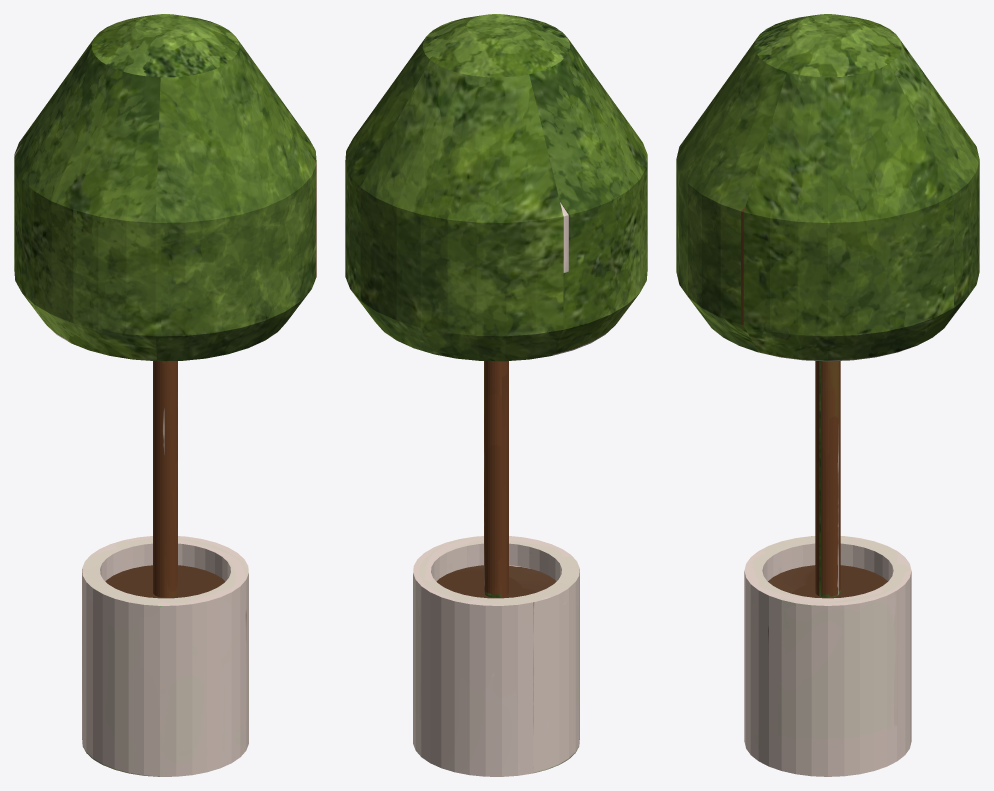
The model's file is dzrewko2.glb.
3 views of the same model, side by side, from view 1: azimuth 30°, elevation 25°; view 2: azimuth 150°, elevation 25°; view 3: azimuth 270°, elevation 25° (orthographic).
Parts seen in each view (by area): view 1: Cylinder; view 2: Cylinder; view 3: Cylinder.
Boxes of the visible parts, x1,y1,x2,y2 form: Cylinder: (14,14,316,776); Cylinder: (345,14,647,776); Cylinder: (676,14,979,776).
Size of the model in its own units: 1.14 by 2.98 by 1.14.
1 material, 1 textured.
